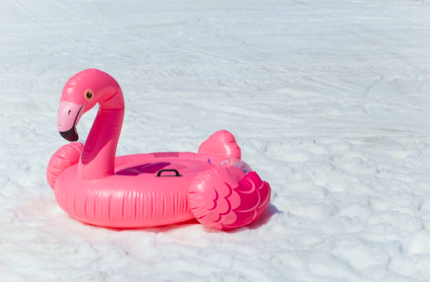Flamingo: (43, 68, 274, 234)
